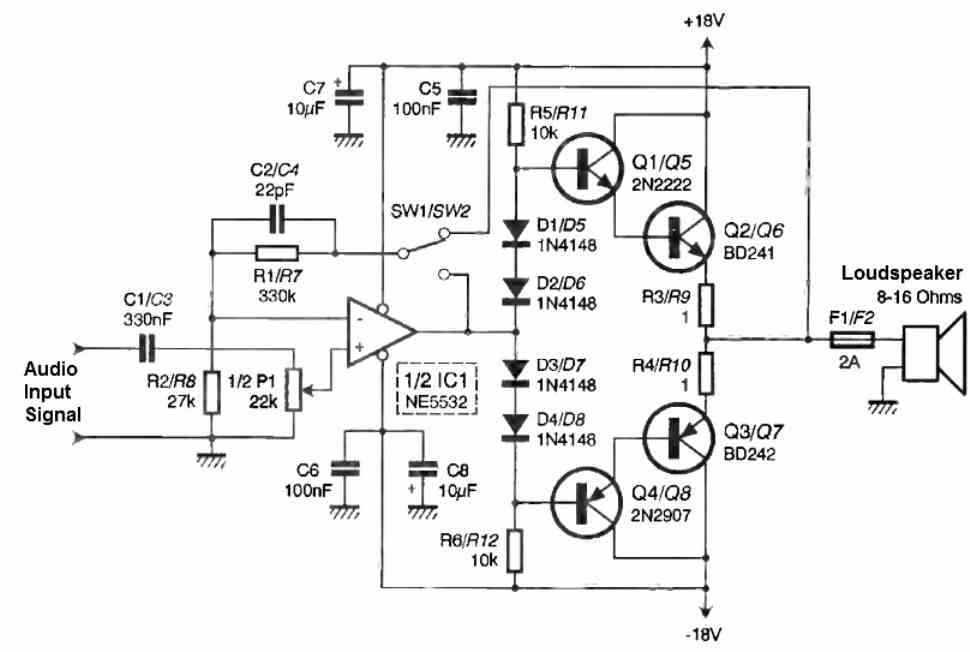C: (440, 77, 484, 117), (259, 196, 297, 242), (323, 76, 367, 114), (399, 454, 445, 486), (128, 329, 163, 367), (328, 453, 374, 481)
D: (492, 266, 536, 317), (498, 210, 542, 259), (495, 406, 536, 451), (498, 350, 533, 401)
Q: (539, 457, 637, 545), (545, 124, 631, 213), (634, 193, 722, 276), (639, 400, 725, 479)
R: (240, 233, 311, 275), (196, 359, 233, 423), (503, 518, 536, 581), (691, 343, 724, 403), (501, 94, 531, 158), (692, 279, 727, 333)
